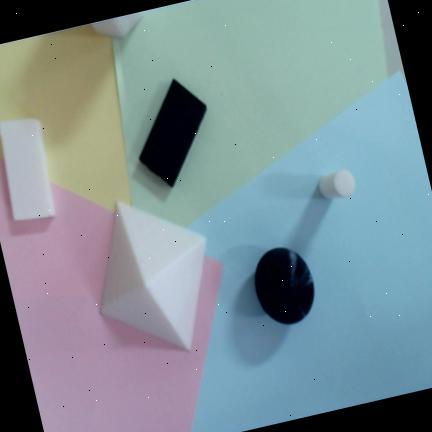Cilindro: (319, 170, 356, 199)
Esfera: (255, 248, 315, 325)
Paralelepipedo: (140, 80, 206, 187), (1, 119, 55, 221)
Piramide: (101, 203, 206, 349)
Prisma_hexagonal: (91, 12, 145, 39)
